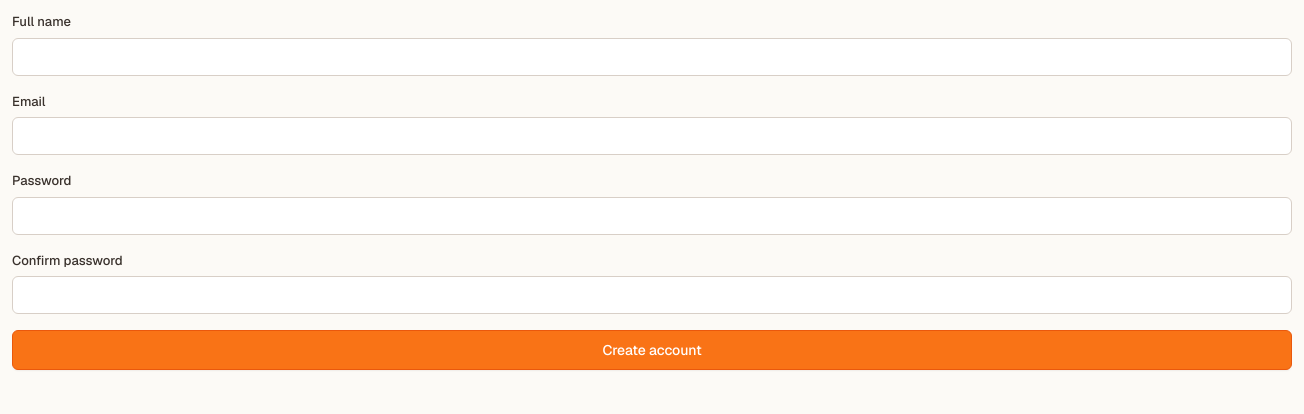
Test: RegisterForm › rejects mismatched password confirmation client-side
In the field labelled "Full name": x=652, y=56 [12,38,1292,76], type "Someone"
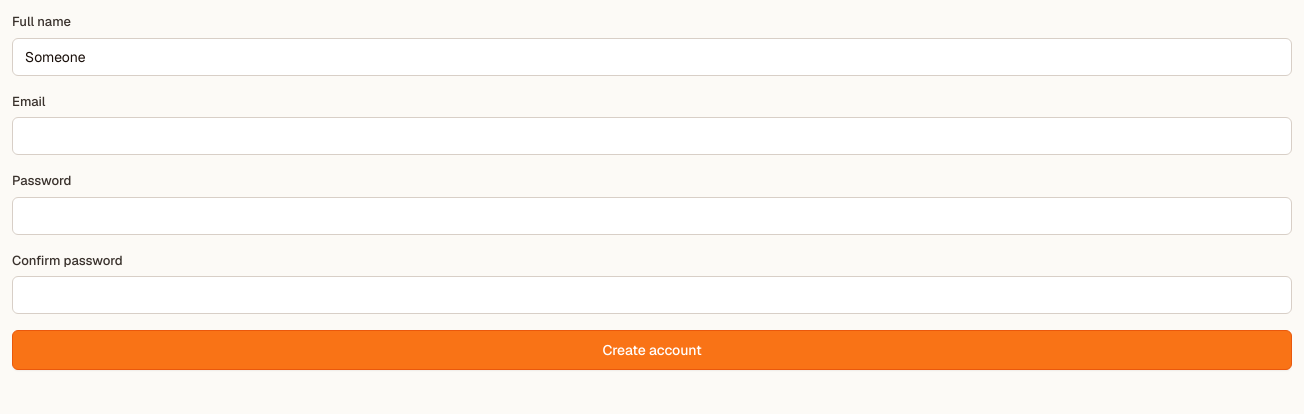
In the field labelled "Email": x=652, y=136 [12,117,1292,155], type "someone@example.com"
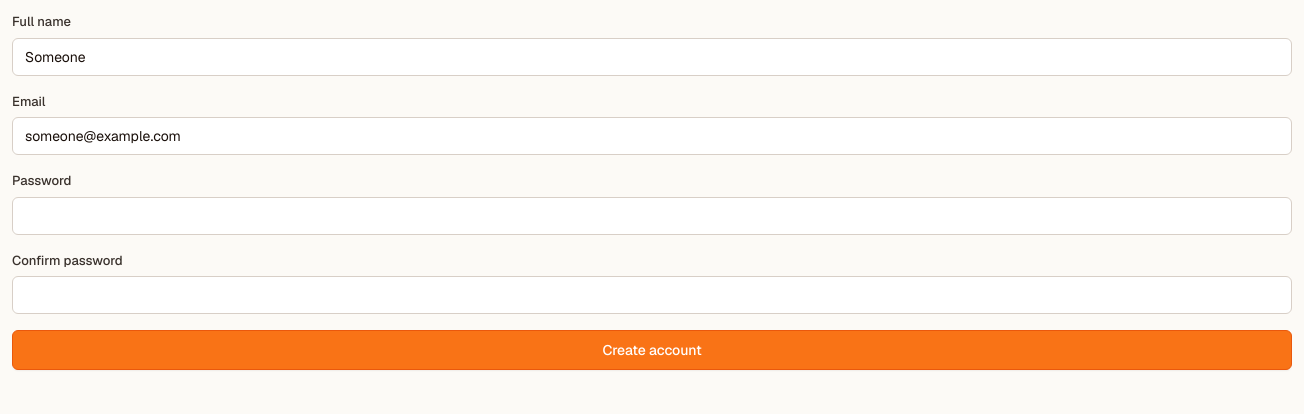
In the password field labelled "Password": x=652, y=216 [12,196,1292,234], type "ValidPass123"
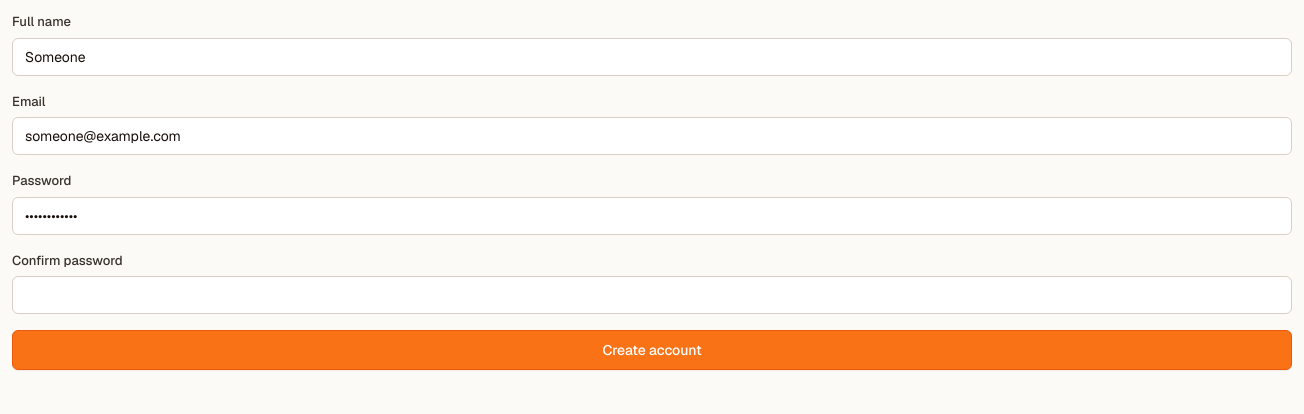
In the password field labelled "Confirm password": x=652, y=295 [12,276,1292,314], type "Different123"
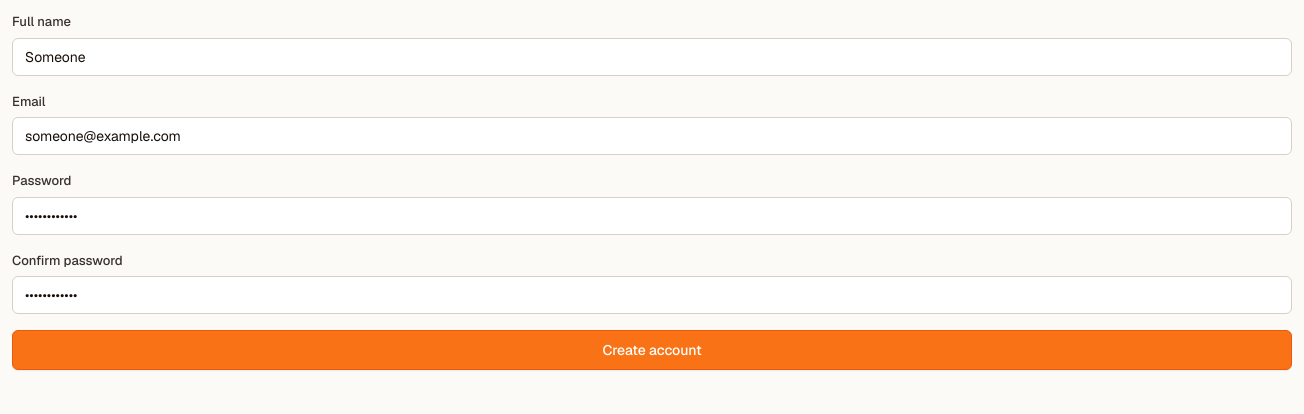
Click the button "Create account": x=652, y=350 [12,330,1292,370]
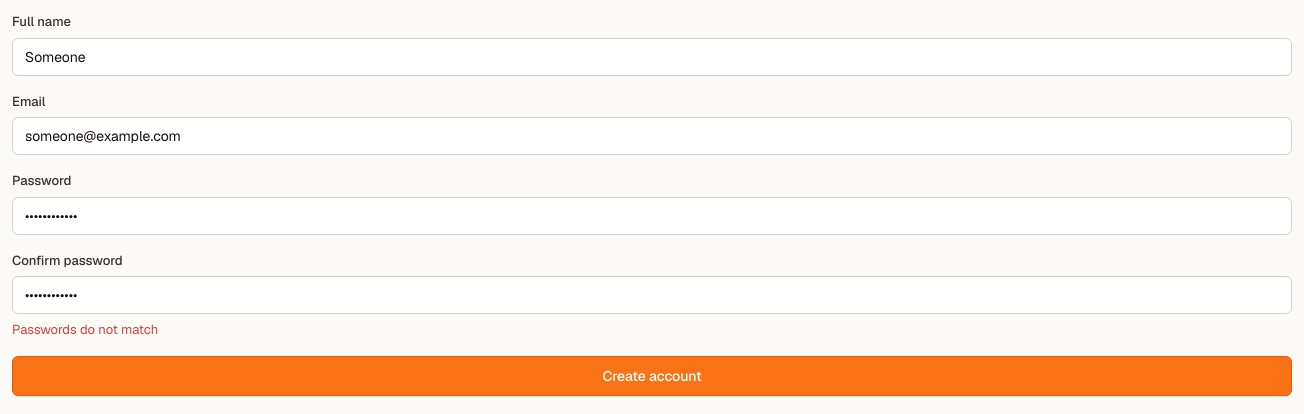
Now the text "Passwords do not match" is shown, box [12,321,158,338]
